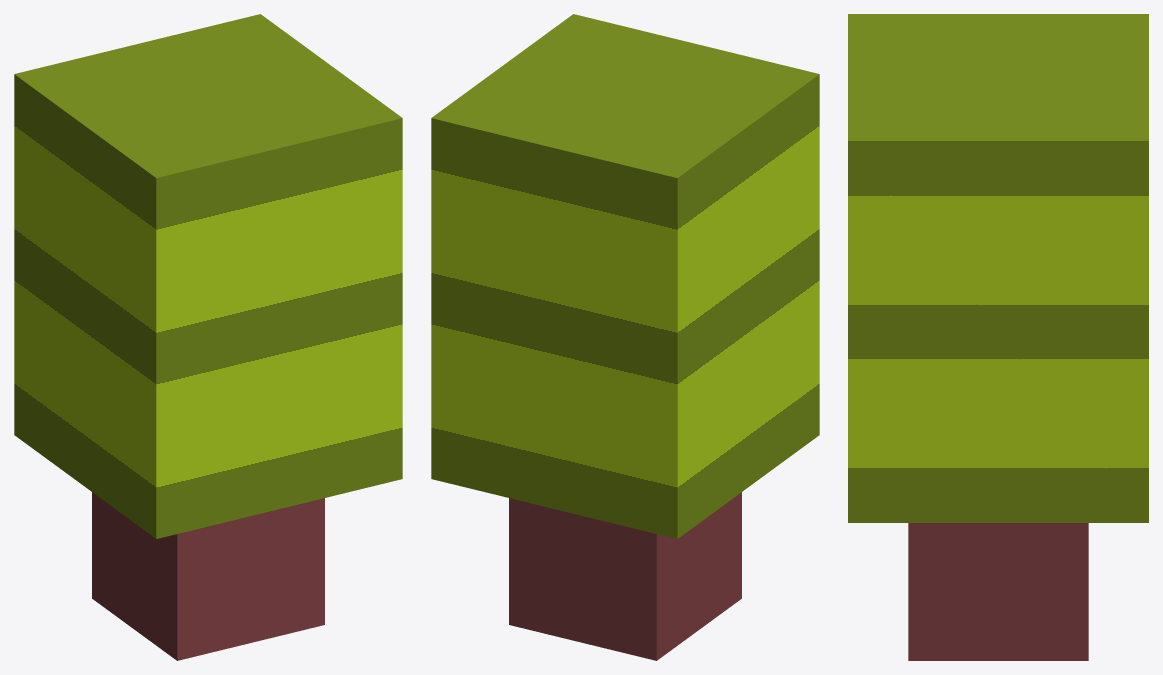
File: 2BlocksTree.obj
The picture shows the model from 3 angles, left to right: view 1: azimuth 30°, elevation 25°; view 2: azimuth 150°, elevation 25°; view 3: azimuth 270°, elevation 25°; orthographic projection. The views are drawn at different scales.
Parts seen in each view (by area): view 1: 2BlockTree; view 2: 2BlockTree; view 3: 2BlockTree.
Part boxes in pixels (bbox=[...]): 2BlockTree: bbox=[14, 14, 402, 660]; 2BlockTree: bbox=[431, 14, 819, 660]; 2BlockTree: bbox=[848, 14, 1148, 660].
Size of the model in its own units: 5 by 10 by 5.
